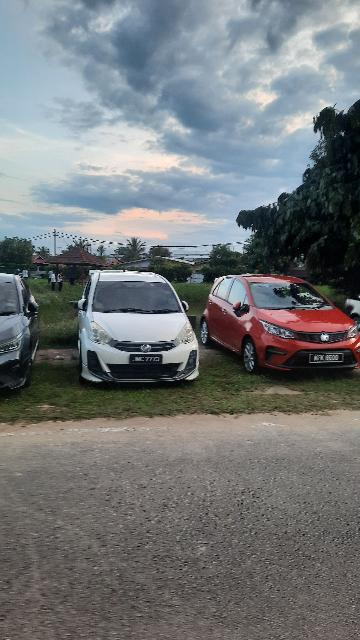License_Plate: (309, 350, 346, 366), (128, 353, 166, 367)
car: (199, 274, 360, 376), (74, 266, 202, 387)
